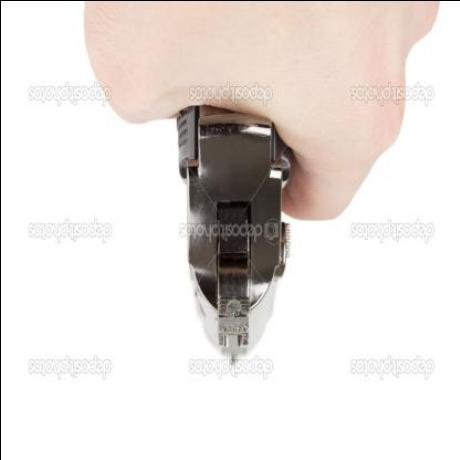1: (81, 0, 444, 225)
weapon: (166, 95, 294, 362)
